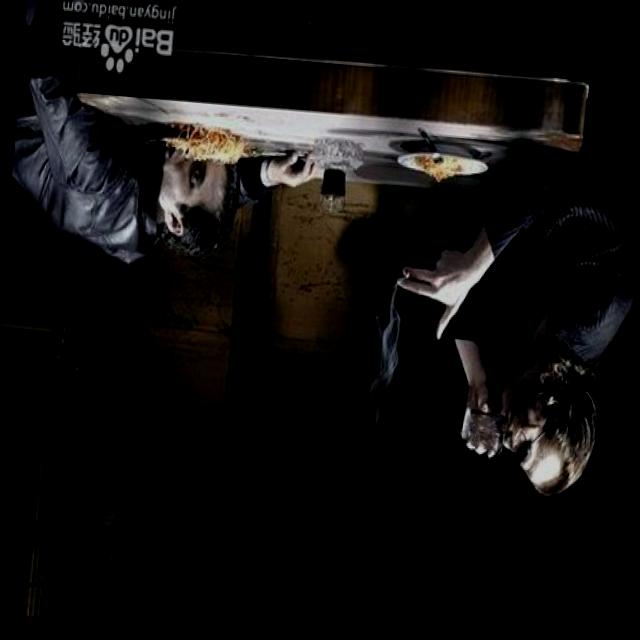cigarette: (400, 264, 413, 286)
